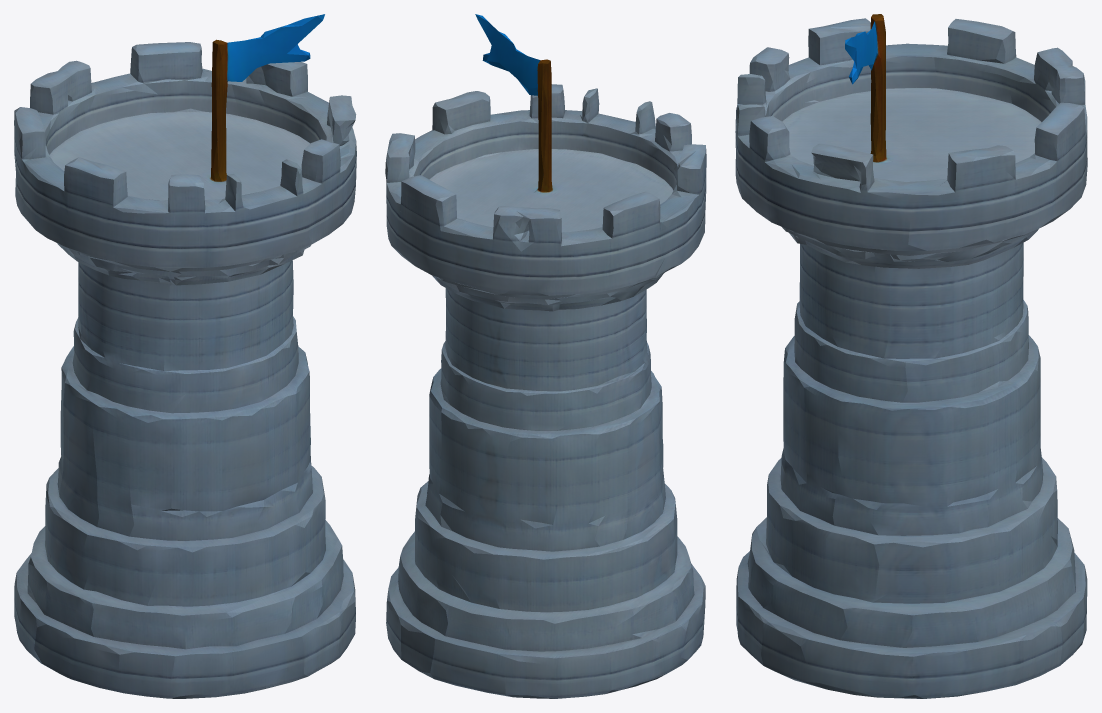
File: tower_blue.glb
The picture shows the model from 3 angles, left to right: view 1: azimuth 30°, elevation 25°; view 2: azimuth 150°, elevation 25°; view 3: azimuth 270°, elevation 25°; orthographic projection. The views are drawn at different scales.
Visible parts, largest first — view 1: Mesh; view 2: Mesh; view 3: Mesh.
Boxes of the visible parts, <box> form: Mesh: <box>14,14,356,698</box>; Mesh: <box>385,14,706,698</box>; Mesh: <box>735,14,1087,698</box>.
Size of the model in its own units: 0.9757 by 1.91 by 0.9579.
Materials: 1 (1 with a texture image).
